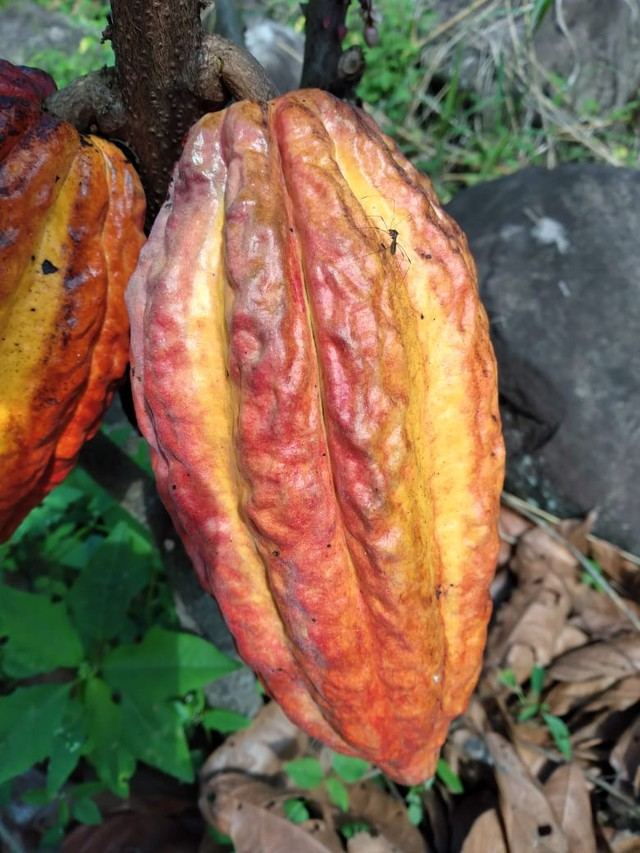Health: (121, 82, 512, 793)
